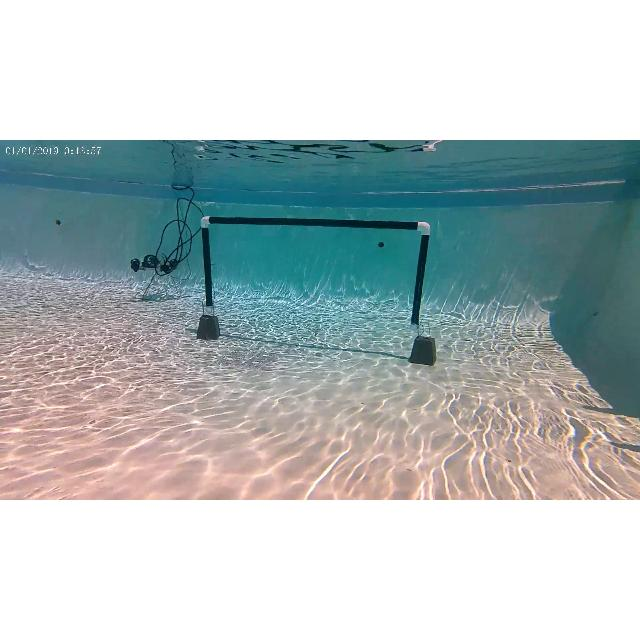prequal gate: (200, 213, 430, 329)
prequal gate leg l: (194, 212, 222, 352)
prequal gate leg r: (409, 221, 437, 367)
